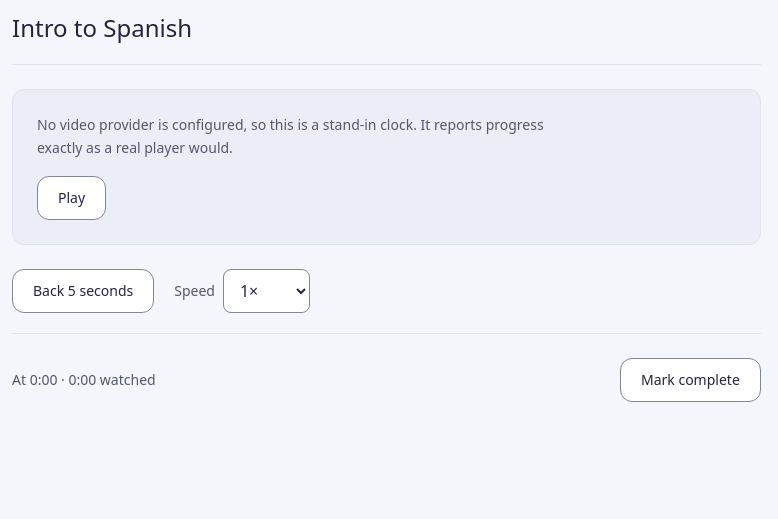
Test: completion › does not claim completion when the server refuses
What coordinates should you click on to do the following:
click the button "Mark complete"
I would click on:
 (690, 380)
Its box is [620, 358, 761, 402].
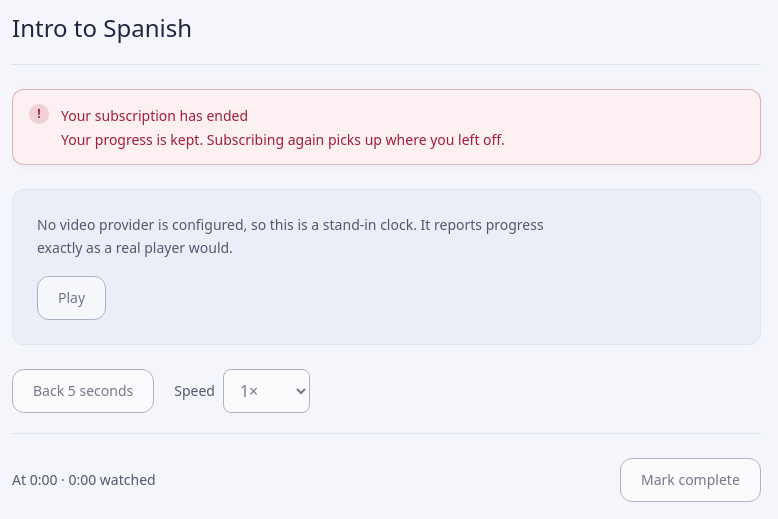
Expected: the message is shown, [12, 89, 761, 165]
